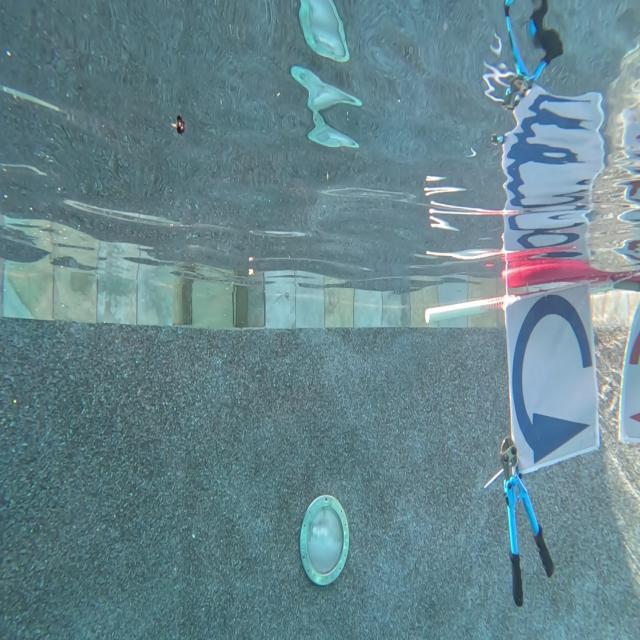blue_side: (510, 295, 602, 464)
